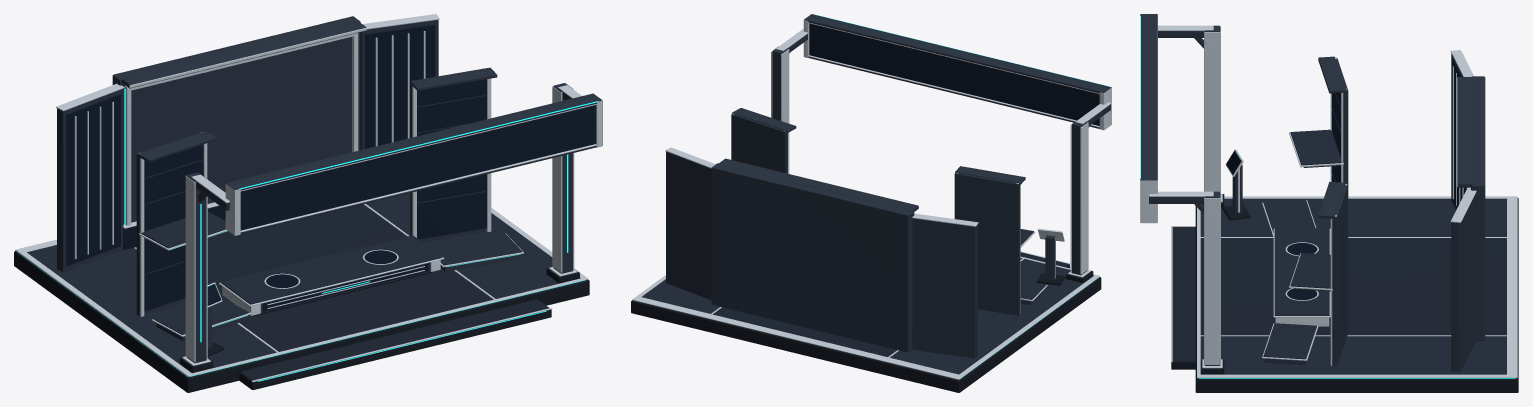
The model's file is kinetix_booth_v3.glb.
3 renders of one model, left to right at view 1: azimuth 30°, elevation 25°; view 2: azimuth 150°, elevation 25°; view 3: azimuth 270°, elevation 25°, orthographic. The views are drawn at different scales.
Visible parts, largest first — view 1: Kinetix_Robotics_Booth_v3; view 2: Kinetix_Robotics_Booth_v3; view 3: Kinetix_Robotics_Booth_v3.
Part boxes in pixels (x1,y1,x2,y2): Kinetix_Robotics_Booth_v3: (14, 14, 602, 392); Kinetix_Robotics_Booth_v3: (631, 14, 1111, 392); Kinetix_Robotics_Booth_v3: (1140, 14, 1518, 392).
Size of the model in its own units: 7.2 by 3.78 by 6.33.
